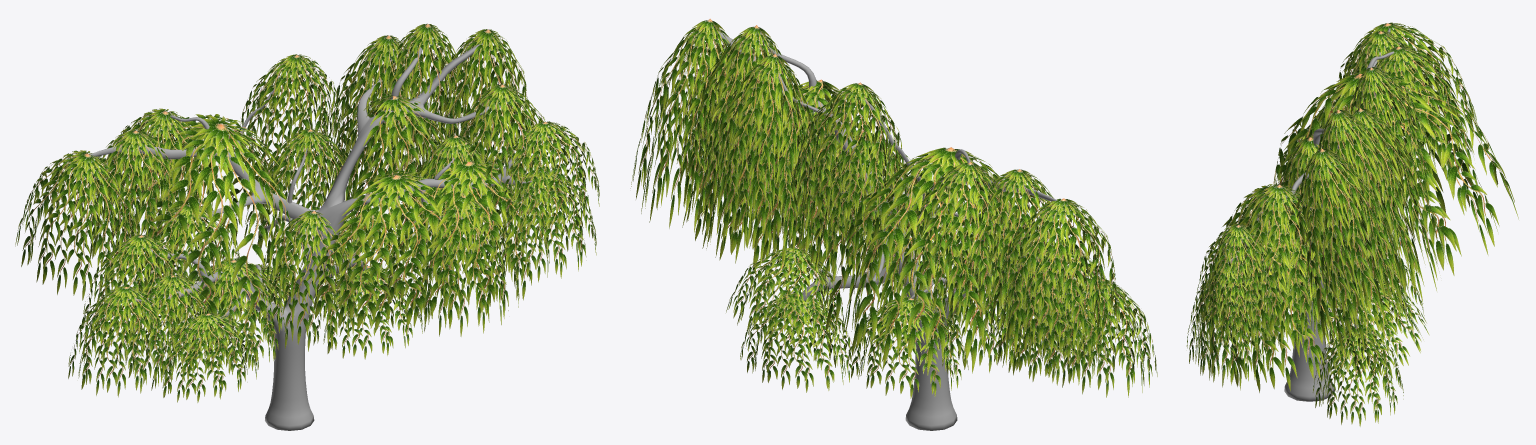
Rendered from envMesh_Islands_Tree_WeepWillow.FBX.fbx.
The picture shows the model from 3 angles, left to right: view 1: azimuth 30°, elevation 25°; view 2: azimuth 150°, elevation 25°; view 3: azimuth 270°, elevation 25°; orthographic projection. The views are drawn at different scales.
Visible parts, largest first — view 1: Leafs1_group127, WeepingWillow_Tree_Leafs1; view 2: Leafs1_group127, WeepingWillow_Tree_Leafs1; view 3: Leafs1_group127, WeepingWillow_Tree_Leafs1.
Boxes of the visible parts, x1,y1,x2,y2 form: Leafs1_group127: (15,23,599,402); WeepingWillow_Tree_Leafs1: (89,37,550,430); Leafs1_group127: (630,18,1157,398); WeepingWillow_Tree_Leafs1: (711,27,1088,430); Leafs1_group127: (1186,22,1518,426); WeepingWillow_Tree_Leafs1: (1227,28,1401,401).
Bounding box in the file's own units: 15.21 × 10.5 × 8.84.
Materials: 2 (1 with a texture image).
